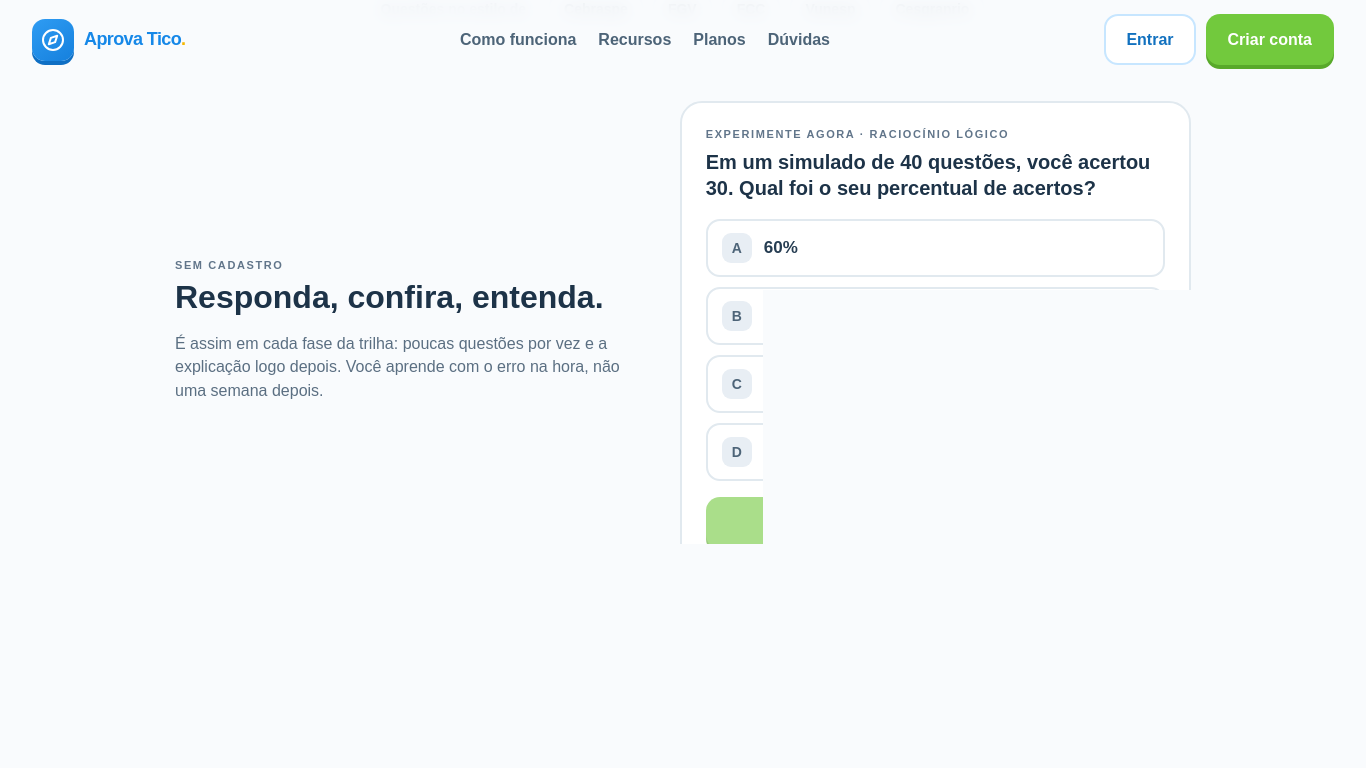
it: página inicial › questão de demonstração: só confere depois de escolher; mostra acerto e explicação
(page scrolled)
expect the button "Conferir resposta" is disabled: met, box [706,497,1165,549]
Click the radio button labelled "C 75%".
click(781, 384)  # box [706,355,1165,413]
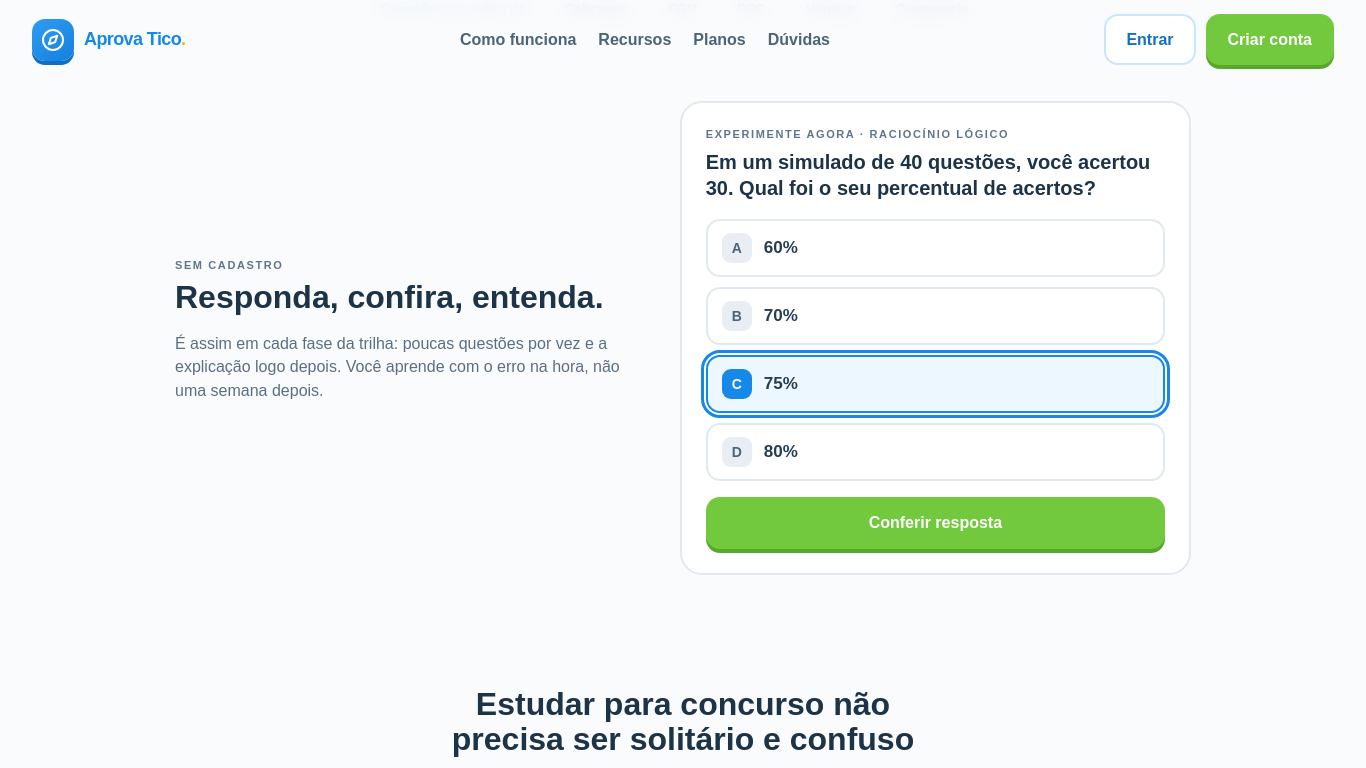
Click the button "Conferir resposta".
click(935, 523)  # box [706,497,1165,549]
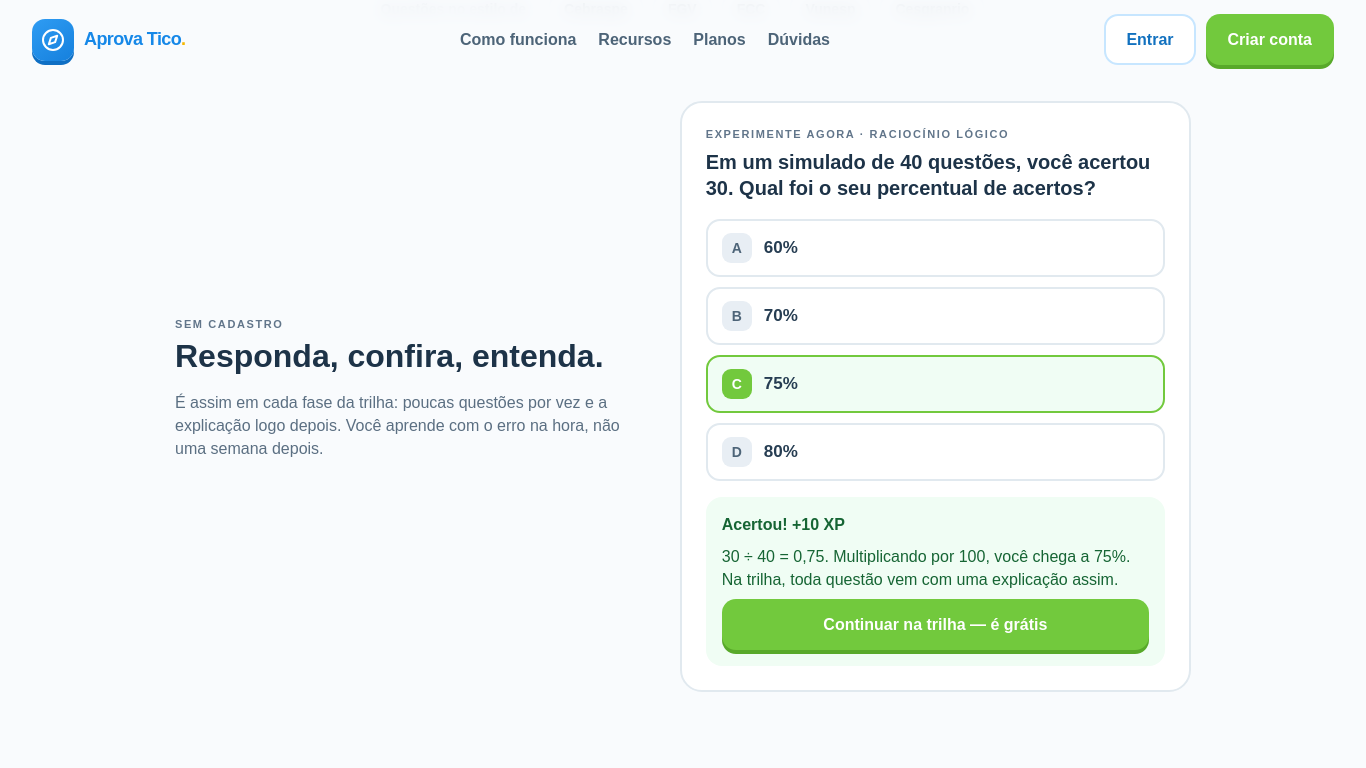
expect the radio button labelled "A 60%" is disabled: met, box [706,219,1165,277]
expect the message shows "Acertou! +10 XP": met, box [722,516,845,533]
expect the message shows "30 ÷ 40 = 0,75": met, box [722,548,1130,588]
